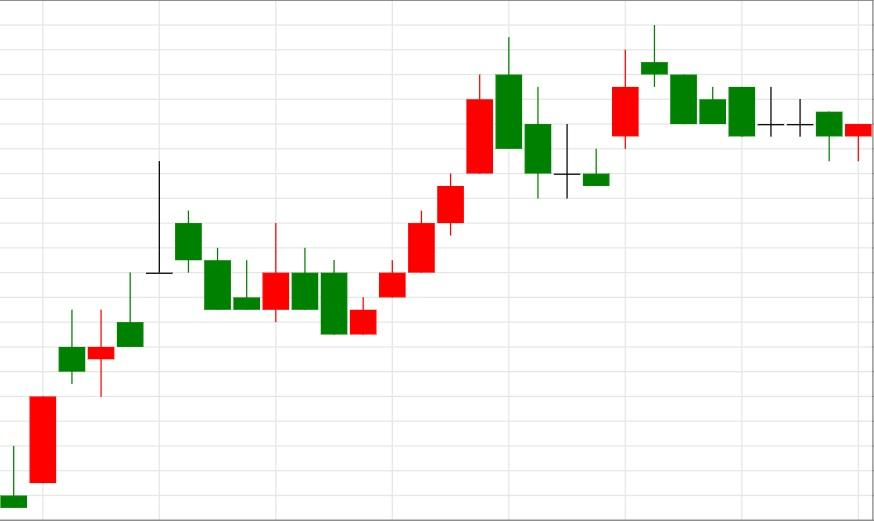three_white_soldiers_rise: (146, 160, 435, 336)
